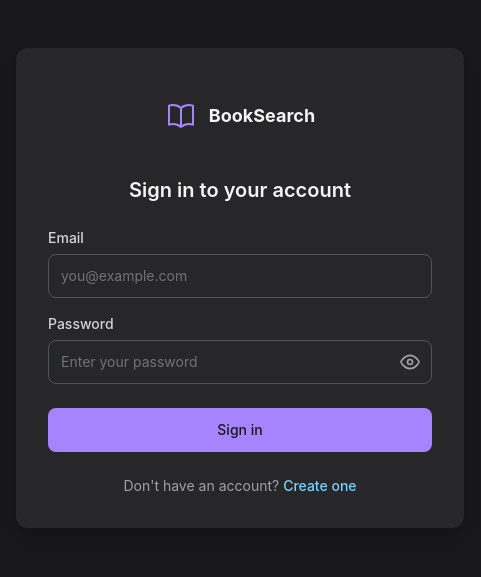
LoginView client-side validation › shows validation error when email is empty
In the password field labelled "Password": (240,362) [48,340,432,384], type "password123"
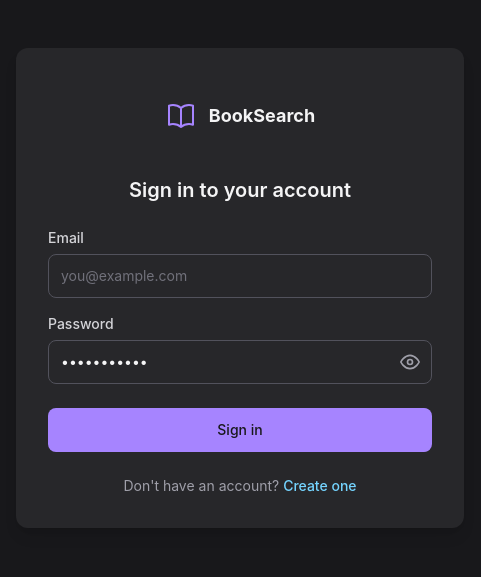
Submit the form, box [48,228,432,452]
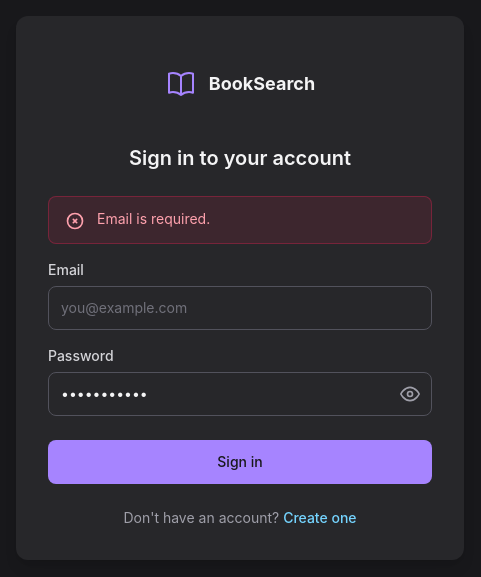
Check: the message "Email is required." is shown, box [48,196,432,244]
